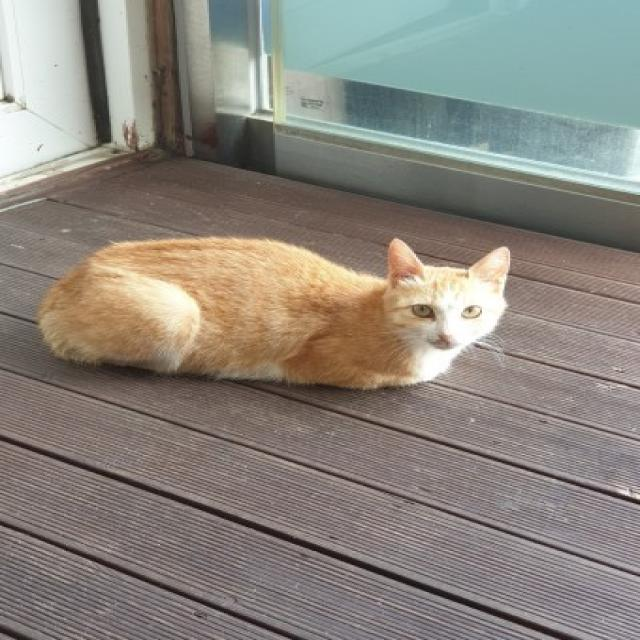cat: (20, 198, 552, 433)
